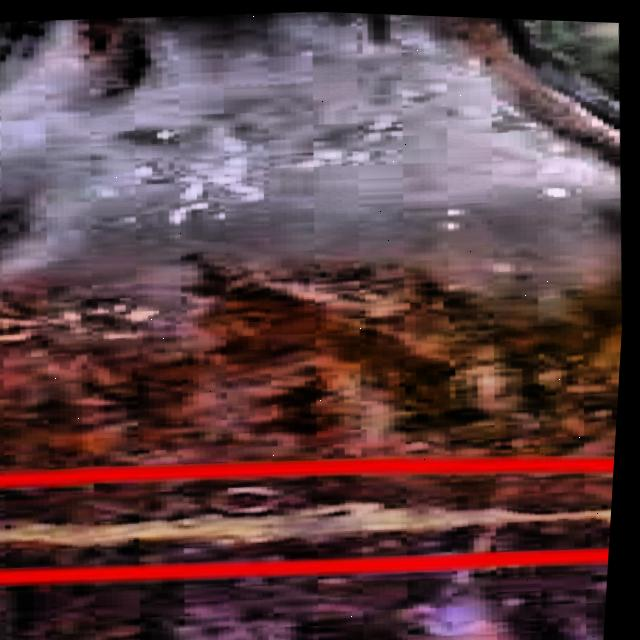glass: (0, 9, 626, 640)
